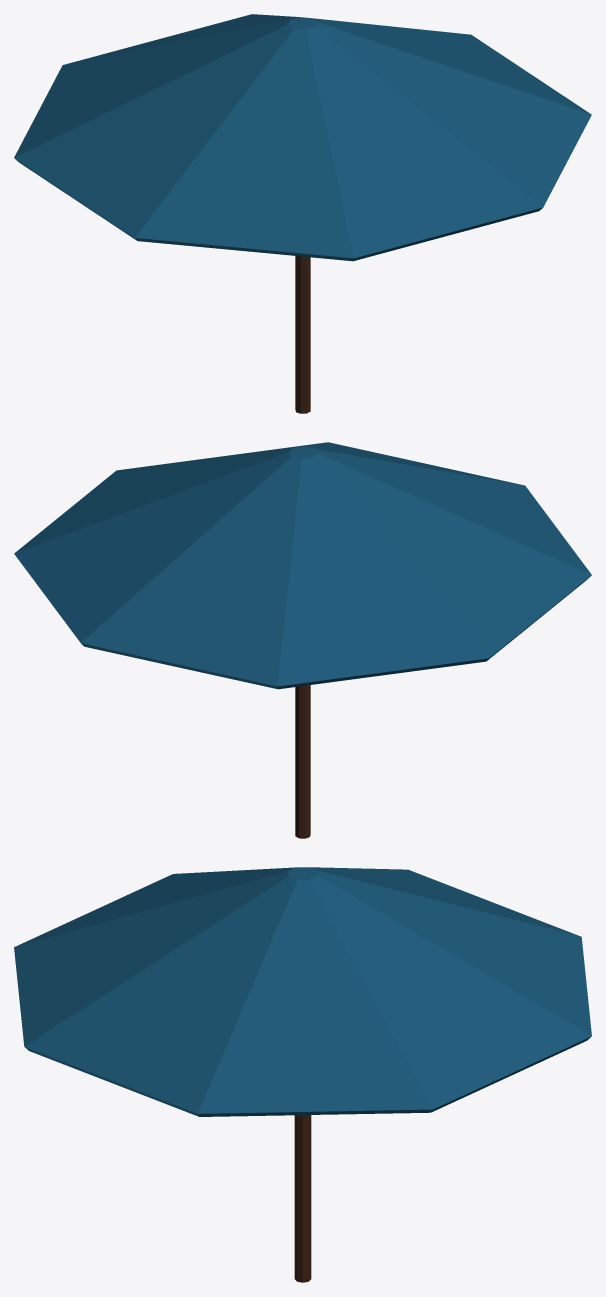
File: Parasol.glb
3 renders of one model, top to bottom at view 1: azimuth 30°, elevation 25°; view 2: azimuth 150°, elevation 25°; view 3: azimuth 270°, elevation 25°, orthographic. The views are drawn at different scales.
Visible parts, largest first — view 1: Parasol1; view 2: Parasol1; view 3: Parasol1.
Boxes of the visible parts, x1,y1,x2,y2 form: Parasol1: [14, 14, 591, 413]; Parasol1: [14, 442, 591, 838]; Parasol1: [14, 867, 591, 1282].
Bounding box in the file's own units: 4.87 × 3.78 × 4.87.
